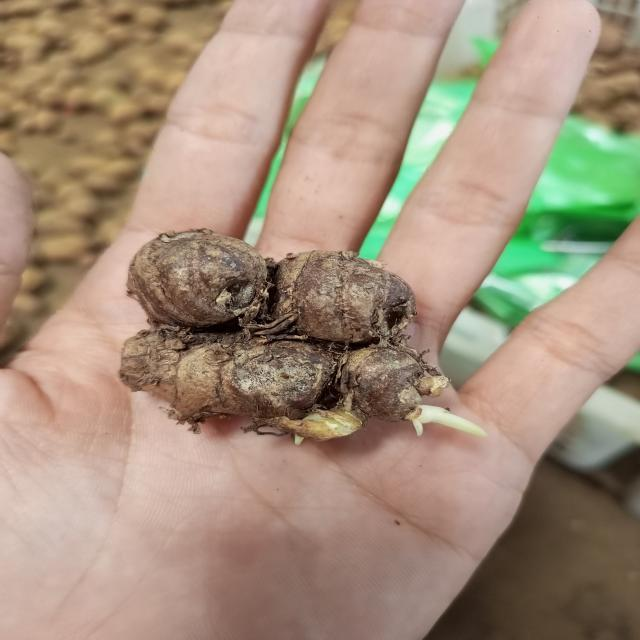ginger: (125, 230, 438, 430)
